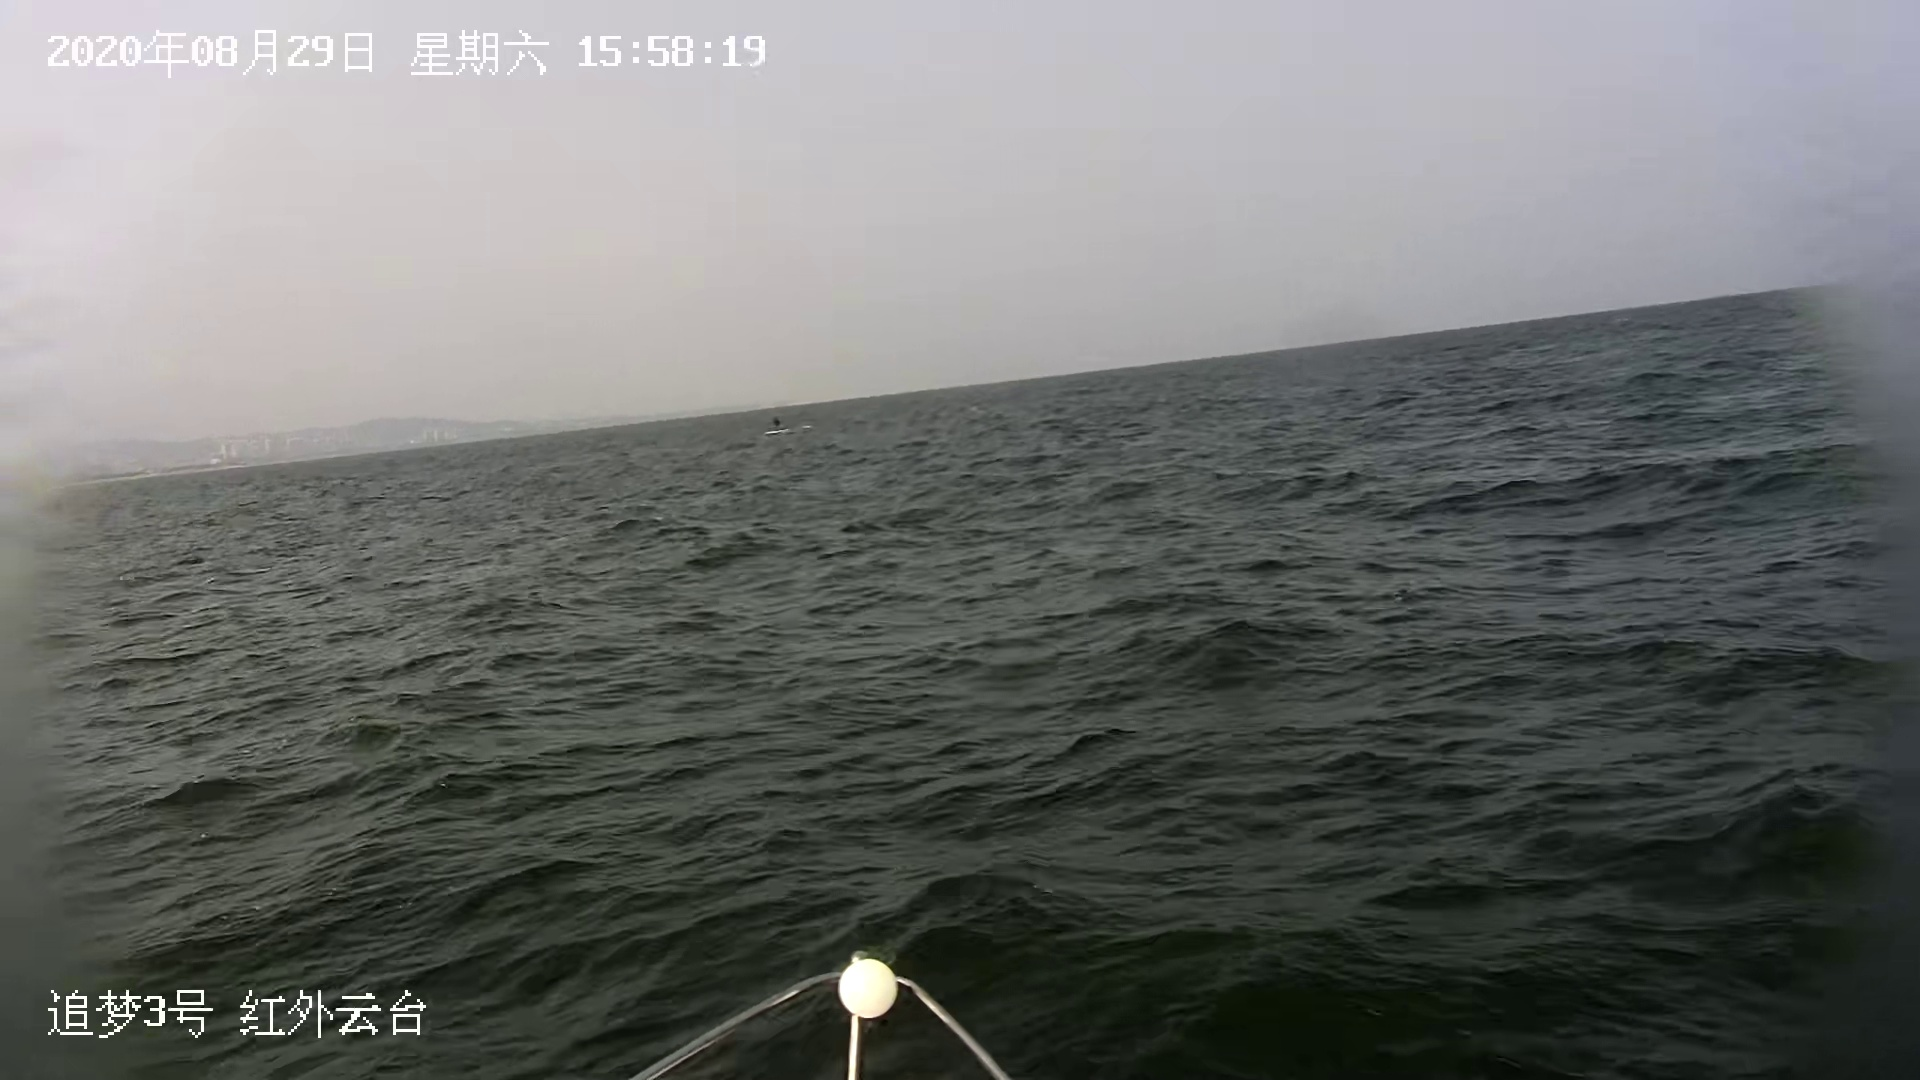barrier: (764, 415, 796, 438)
coast: (32, 413, 611, 489)
